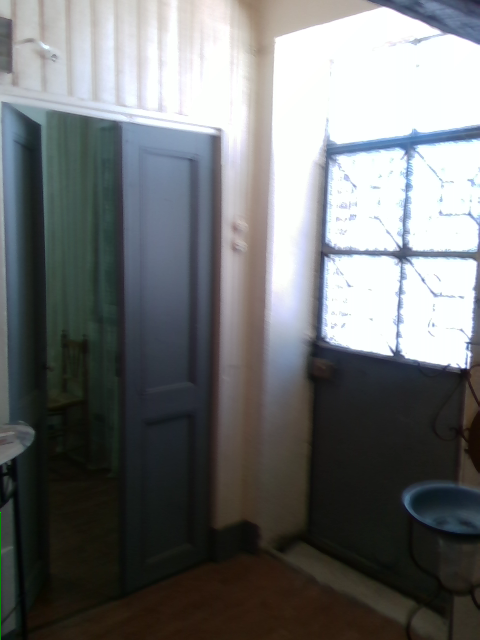semi: (0, 90, 229, 638)
